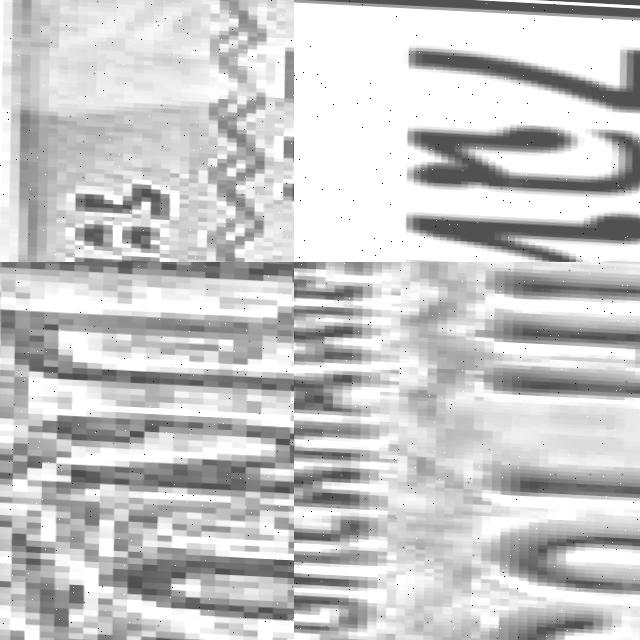license-plate: (294, 262, 640, 640), (0, 262, 294, 640), (294, 0, 640, 262), (0, 0, 294, 262)
